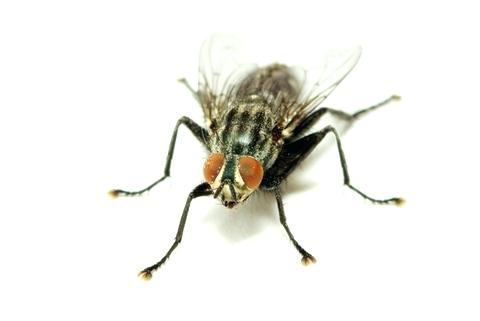fly: (103, 40, 417, 288)
